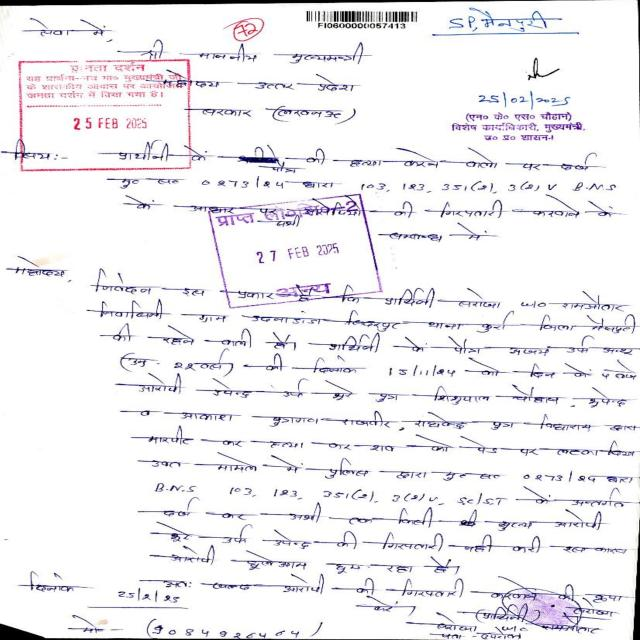antritgovtstamp: (199, 192, 392, 308)
barcode: (302, 7, 422, 32)
fingerprint: (485, 581, 589, 630)
jantadarsan: (13, 54, 196, 171)
signnamestamp: (451, 56, 598, 146)
